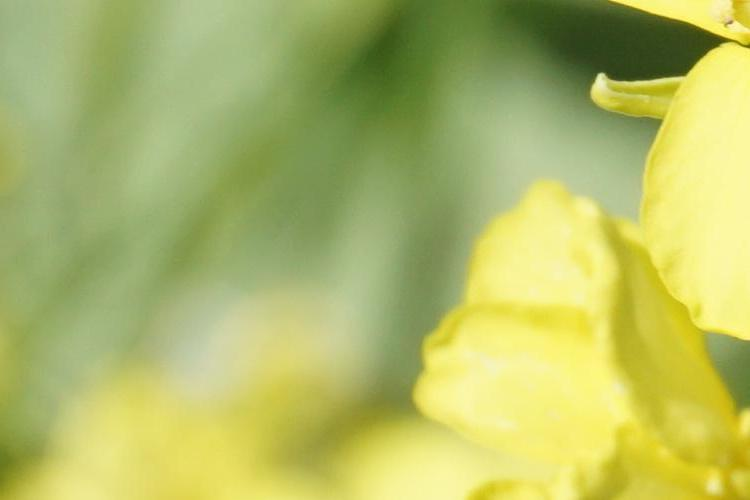yellow: (385, 57, 742, 498)
